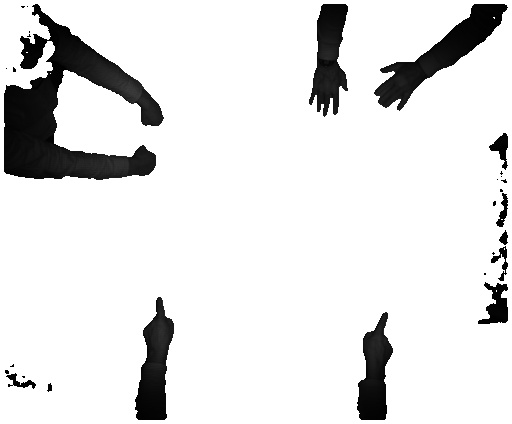fist: (132, 144, 159, 175), (140, 96, 167, 127)
hand: (368, 61, 428, 111), (304, 64, 351, 119), (136, 296, 175, 357), (360, 312, 399, 369)
